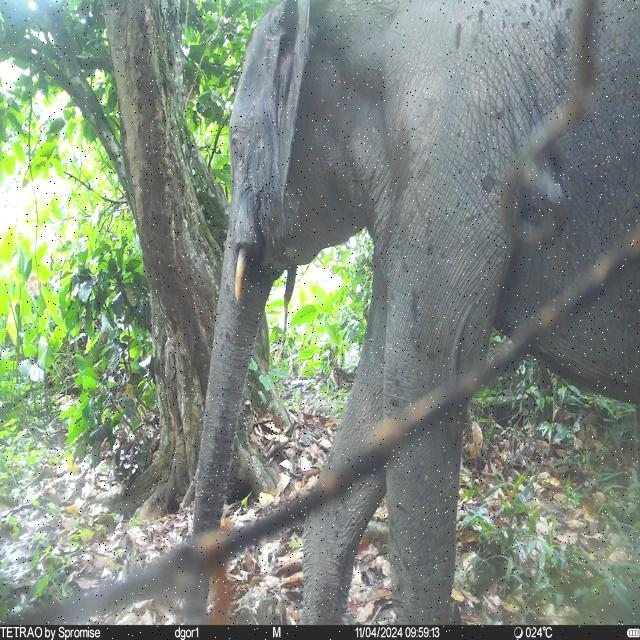ear: (272, 0, 314, 210)
elephant: (185, 0, 640, 624)
tusk: (234, 246, 249, 304), (282, 263, 299, 311)
